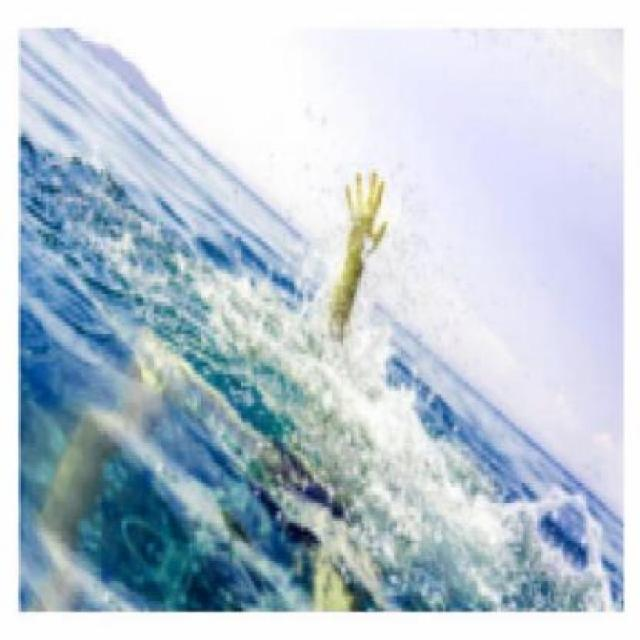drowning: (315, 176, 387, 349)
